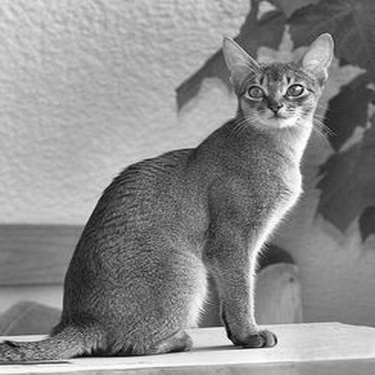cat: (7, 31, 334, 362)
